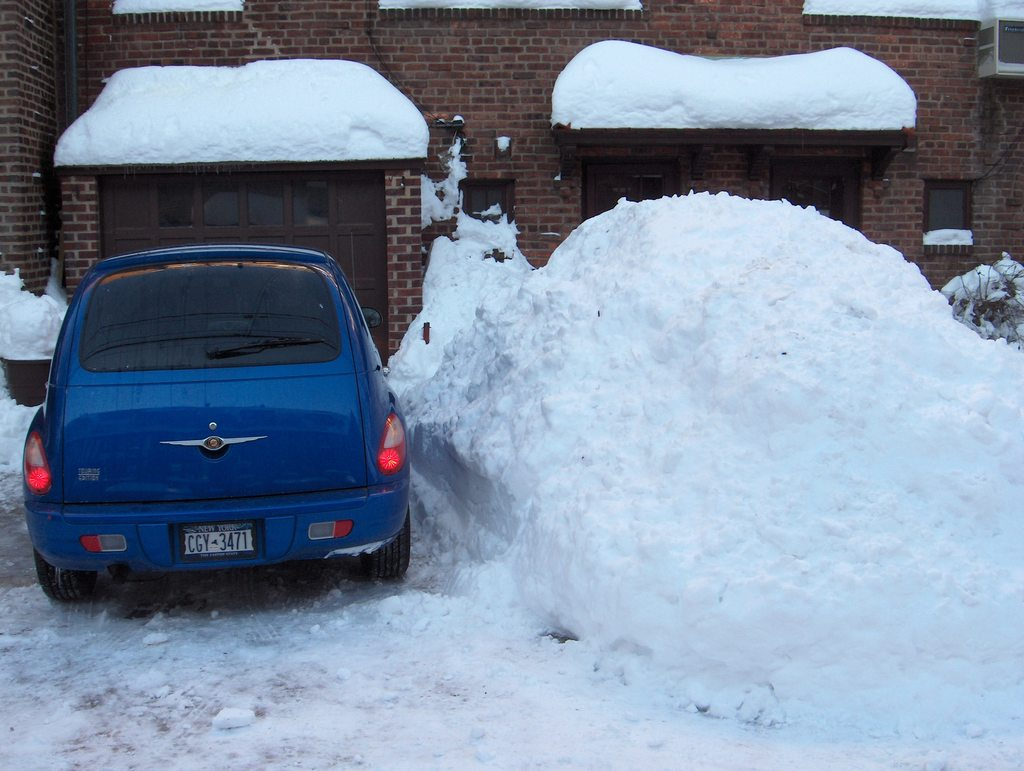Car: (23, 241, 416, 600)
